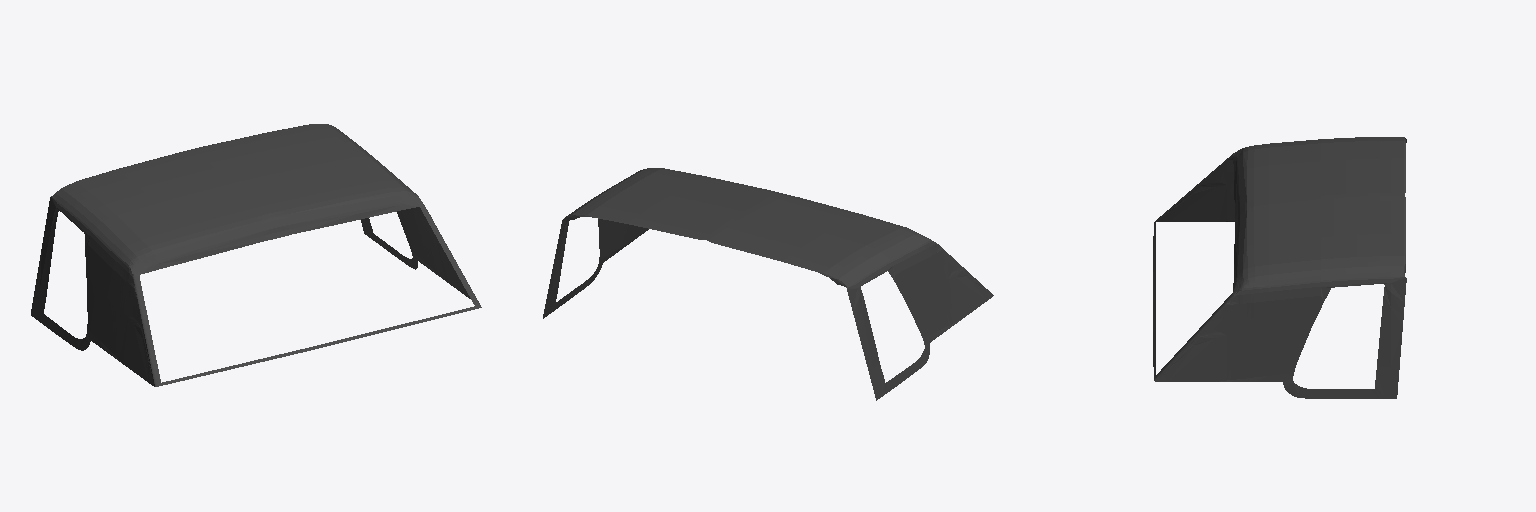
The model's file is vinylroof.obj.
3 renders of one model, left to right at view 1: azimuth 30°, elevation 25°; view 2: azimuth 150°, elevation 25°; view 3: azimuth 270°, elevation 25°, orthographic.
Parts seen in each view (by area): view 1: VinylRoof_Plane; view 2: VinylRoof_Plane; view 3: VinylRoof_Plane.
Boxes of the visible parts, x1=… form: VinylRoof_Plane: x1=31, y1=124, x2=481, y2=386; VinylRoof_Plane: x1=543, y1=168, x2=993, y2=400; VinylRoof_Plane: x1=1153, y1=137, x2=1406, y2=398.
Size of the model in its own units: 1.29 by 0.4552 by 0.848.